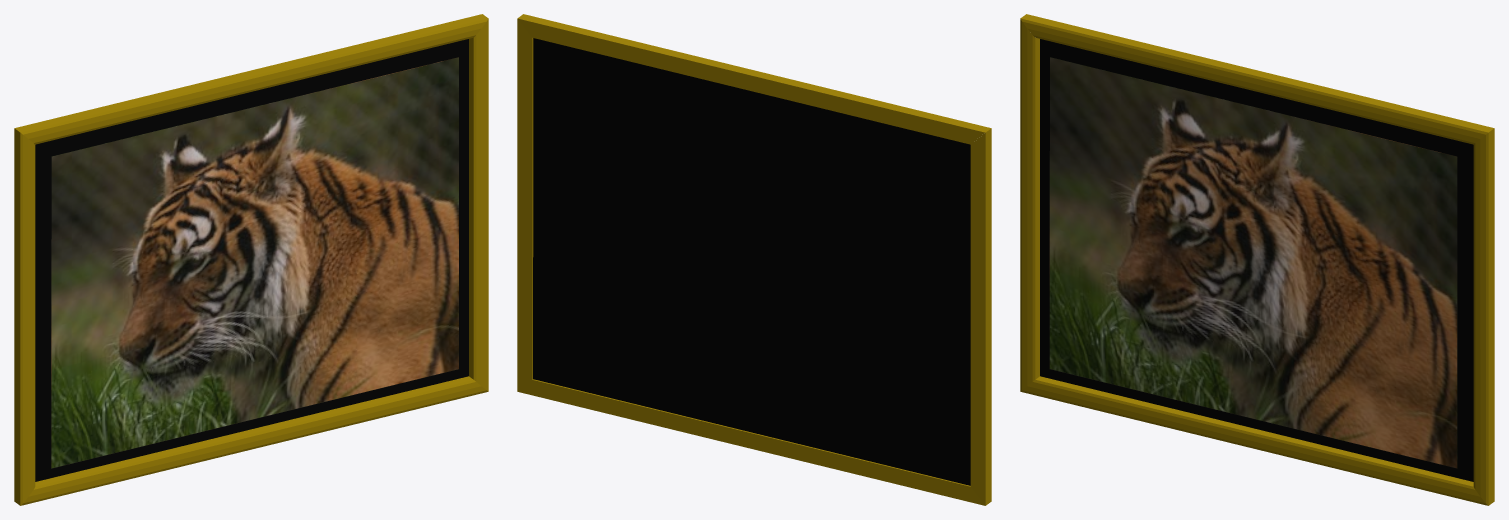
File: sweethome3d-contributions-frame-tiger.glb
3 views of the same model, side by side, from view 1: azimuth 30°, elevation 25°; view 2: azimuth 150°, elevation 25°; view 3: azimuth 330°, elevation 25° (orthographic).
Parts seen in each view (by area): view 1: Photo_Cube_Material_Tiger.jpg, WoodFrame_Cylinder_Wood.002, Frame_Black_Material.013; view 2: Frame_Black_Material.013, WoodFrame_Cylinder_Wood.002; view 3: Photo_Cube_Material_Tiger.jpg, WoodFrame_Cylinder_Wood.002, Frame_Black_Material.013.
Boxes of the visible parts, x1=… form: Photo_Cube_Material_Tiger.jpg: x1=51, y1=57, x2=458, y2=468; WoodFrame_Cylinder_Wood.002: x1=14, y1=14, x2=488, y2=505; Frame_Black_Material.013: x1=35, y1=39, x2=468, y2=481; Frame_Black_Material.013: x1=533, y1=38, x2=970, y2=485; WoodFrame_Cylinder_Wood.002: x1=517, y1=14, x2=991, y2=505; Photo_Cube_Material_Tiger.jpg: x1=1049, y1=57, x2=1457, y2=468; WoodFrame_Cylinder_Wood.002: x1=1020, y1=14, x2=1494, y2=505; Frame_Black_Material.013: x1=1040, y1=39, x2=1473, y2=481.
Bounding box in the file's own units: 62.8 × 47.86 × 1.6.
Materials: 3 (1 with a texture image).
